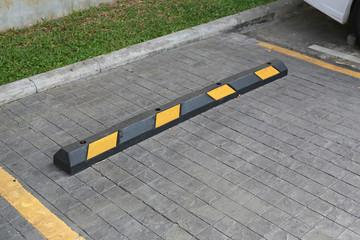Bump: (52, 59, 289, 176)
